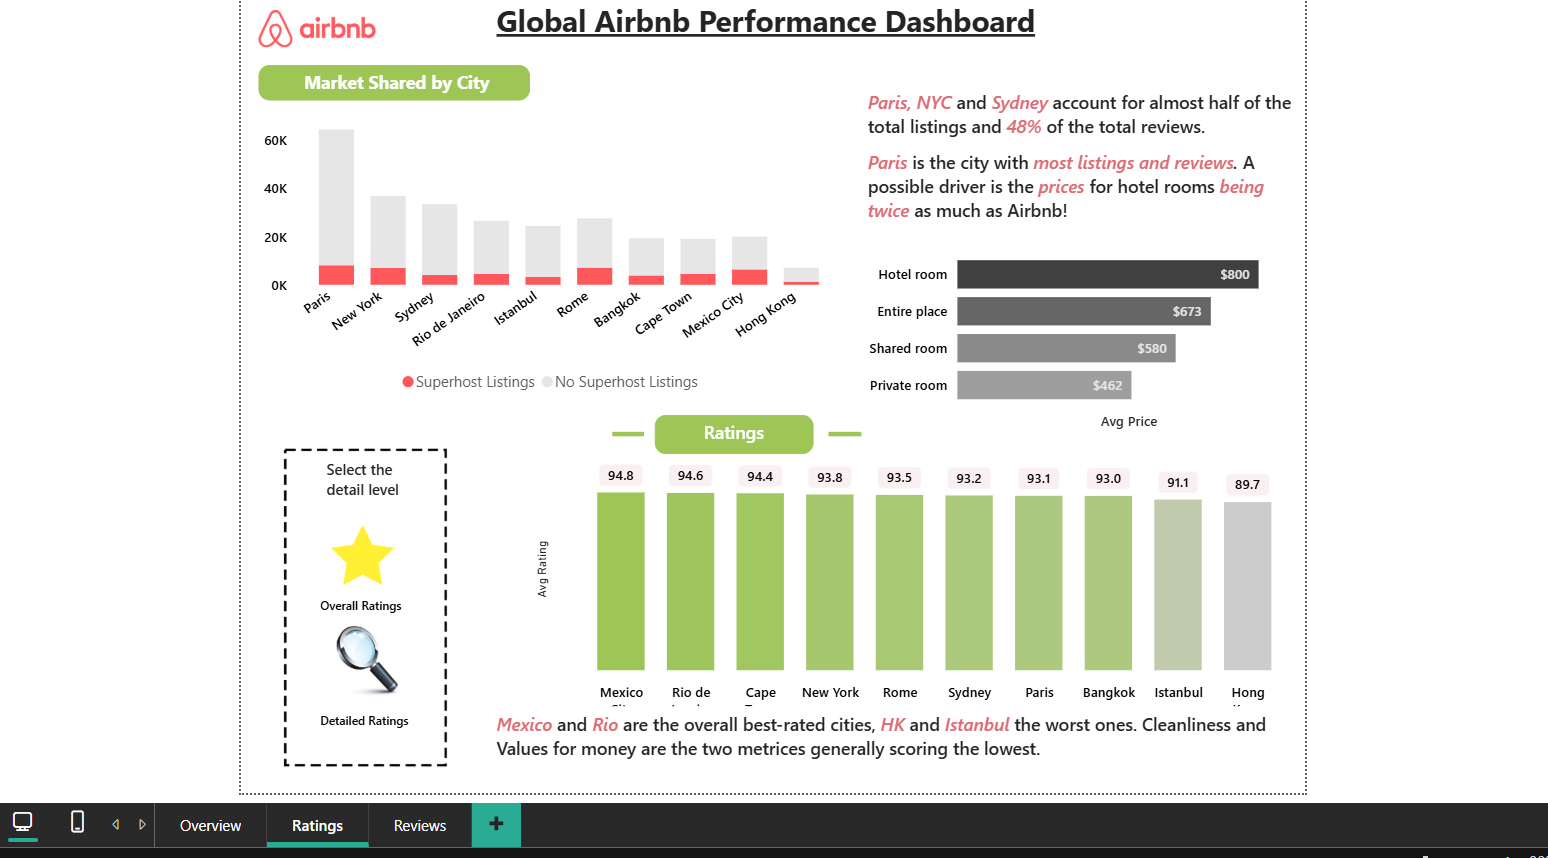

Layout of this report page (visuals, bound fields, positions):
{"tool":"powerbi","page":{"name":"Ratings","canvas":[960,720],"ordinal":1},"visuals":[{"type":"textbox","box":[225.2,0,506.3,47.3],"z":0},{"type":"image","box":[67.4,474,86.6,61],"z":0,"group":"g1"},{"type":"image","box":[67.1,563.9,90.8,68.4],"z":0,"group":"g2"},{"type":"image","box":[16.2,13.7,105.7,33.6],"z":1000},{"type":"textbox","box":[67,535.1,86.6,32.3],"z":1000,"group":"g1"},{"type":"textbox","box":[66.5,639.1,92.4,32.7],"z":1000,"group":"g2"},{"type":"textbox","box":[16.2,63.4,245.1,32.3],"z":2000},{"type":"lineStackedColumnComboChart","fields":{"Category":["Listings.city"],"Y":["Listings.Superhost Listings","Listings.No Superhost Listings"]},"box":[16,96,530,272],"z":3000},{"type":"barChart","fields":{"Category":["Listings.room_type"],"Y":["Listings.Avg Price"]},"box":[559.8,212.7,400.6,184.1],"z":4000},{"type":"textbox","box":[559.8,79.6,400.6,54.7],"z":5000},{"type":"textbox","box":[559.8,134.3,400.6,78.4],"z":6000},{"type":"textbox","box":[373.2,378.2,143.1,34.8],"z":8000},{"type":"shape","box":[334.6,380.7,28.6,29.9],"z":9000},{"type":"shape","box":[529.9,380.7,29.9,29.9],"z":10000},{"type":"image","box":[0,384,225,336],"z":11000},{"type":"pivotTable","fields":{"Rows":["Listings.city"],"Values":["Listings.Avg Accuracy","Listings.Avg Cleanliness","Listings.Communication","Listings.Location","Listings.Value"]},"box":[225,414,735,221],"z":12000},{"type":"textbox","box":[72,414,82,47],"z":13000},{"type":"group","id":"g1","title":"Group 1","box":[67,474,87,93.4],"z":14000},{"type":"group","id":"g2","title":"Group 2","box":[66.5,563.9,92.4,107.8],"z":15000},{"type":"textbox","box":[225.2,640.6,735.2,61],"z":16000}]}

Visuals, with their boxes on the page's 960x720 design canvas (x1, y1, x2, y2). These are canvas units, not pixel positions in the 1548x858 screenshot, which may show the page scaled, cropped or inside an application window:
textbox: 225:0:732:47
image: 67:474:154:535
image: 67:564:158:632
image: 16:14:122:47
textbox: 67:535:154:567
textbox: 66:639:159:672
textbox: 16:63:261:96
lineStackedColumnComboChart - Listings.city x Listings.Superhost Listings: 16:96:546:368
barChart - Listings.room_type x Listings.Avg Price: 560:213:960:397
textbox: 560:80:960:134
textbox: 560:134:960:213
textbox: 373:378:516:413
shape: 335:381:363:411
shape: 530:381:560:411
image: 0:384:225:720
pivotTable - Listings.city x Listings.Avg Accuracy: 225:414:960:635
textbox: 72:414:154:461
"Group 1" group: 67:474:154:567
"Group 2" group: 66:564:159:672
textbox: 225:641:960:702
